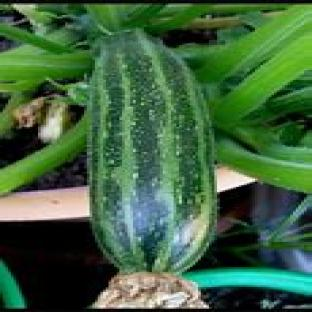Zucchini: (90, 31, 214, 273)
